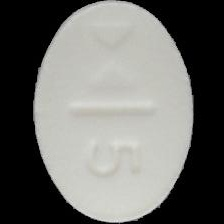0615-4595: (0, 0, 224, 224)
